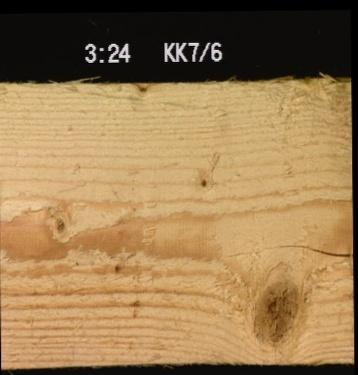small_knot: (48, 209, 69, 236), (132, 80, 151, 93), (197, 174, 208, 187)
sound_knot: (249, 275, 300, 344)
split: (278, 240, 352, 256)
